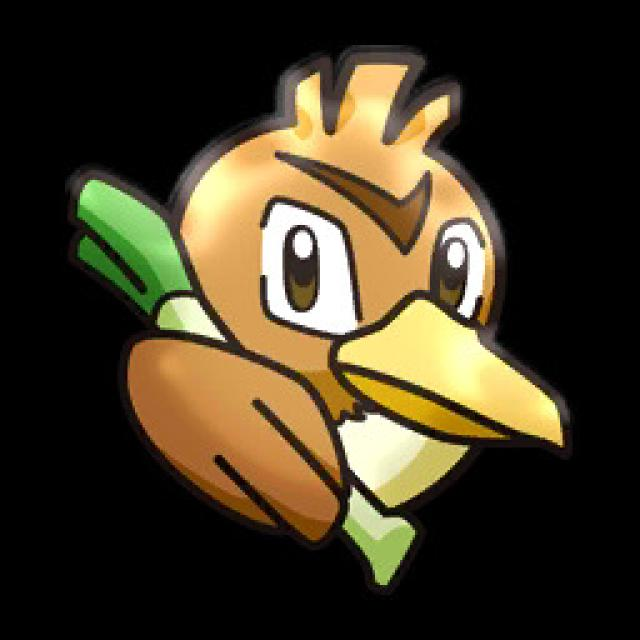Farfetchd: (100, 56, 573, 585)
